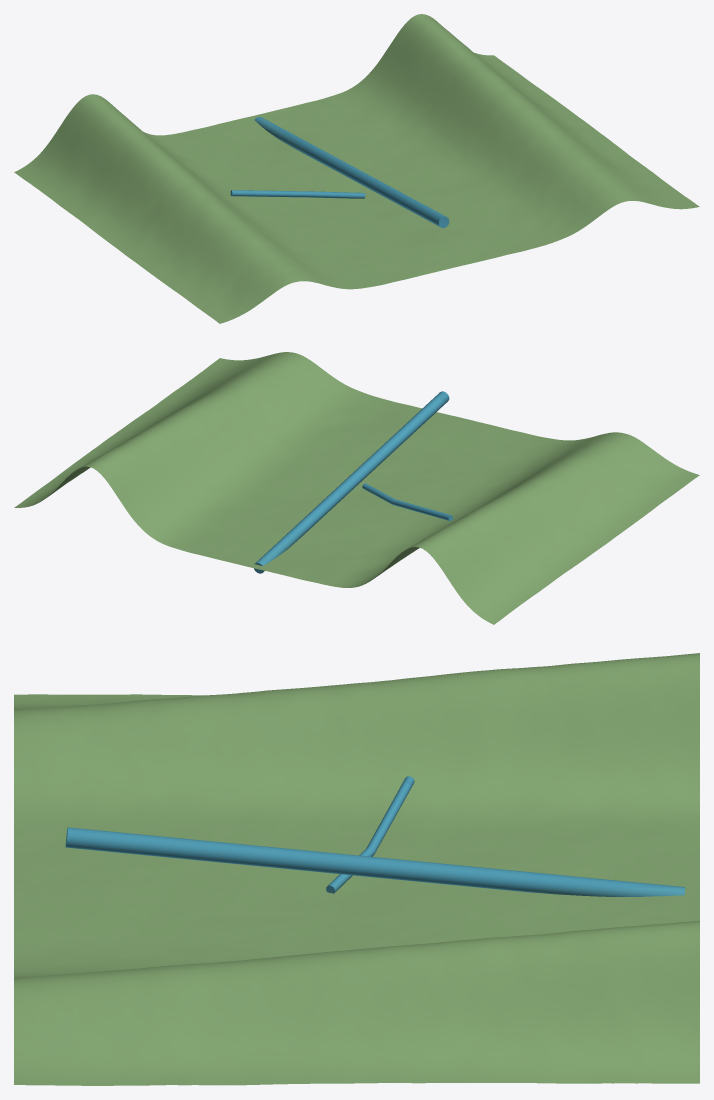
Rendered from drainage-basin.glb.
The picture shows the model from 3 angles, top to bottom: view 1: azimuth 30°, elevation 25°; view 2: azimuth 150°, elevation 25°; view 3: azimuth 270°, elevation 25°; orthographic projection. The views are drawn at different scales.
Visible parts, largest first — view 1: Basin_Divide, Basin_Channel, Basin_Tributary; view 2: Basin_Divide, Basin_Channel, Basin_Tributary; view 3: Basin_Divide, Basin_Channel, Basin_Tributary.
Boxes of the visible parts, box(x1,y1,x2,y2) form: Basin_Divide: box(14, 14, 699, 323); Basin_Channel: box(254, 117, 449, 228); Basin_Tributary: box(230, 190, 365, 198); Basin_Divide: box(14, 352, 699, 624); Basin_Channel: box(254, 391, 449, 573); Basin_Tributary: box(362, 483, 452, 521); Basin_Divide: box(14, 653, 699, 1085); Basin_Channel: box(65, 827, 685, 896); Basin_Tributary: box(326, 776, 414, 893).
Bounding box in the file's own units: 7 × 0.978 × 5.2.
